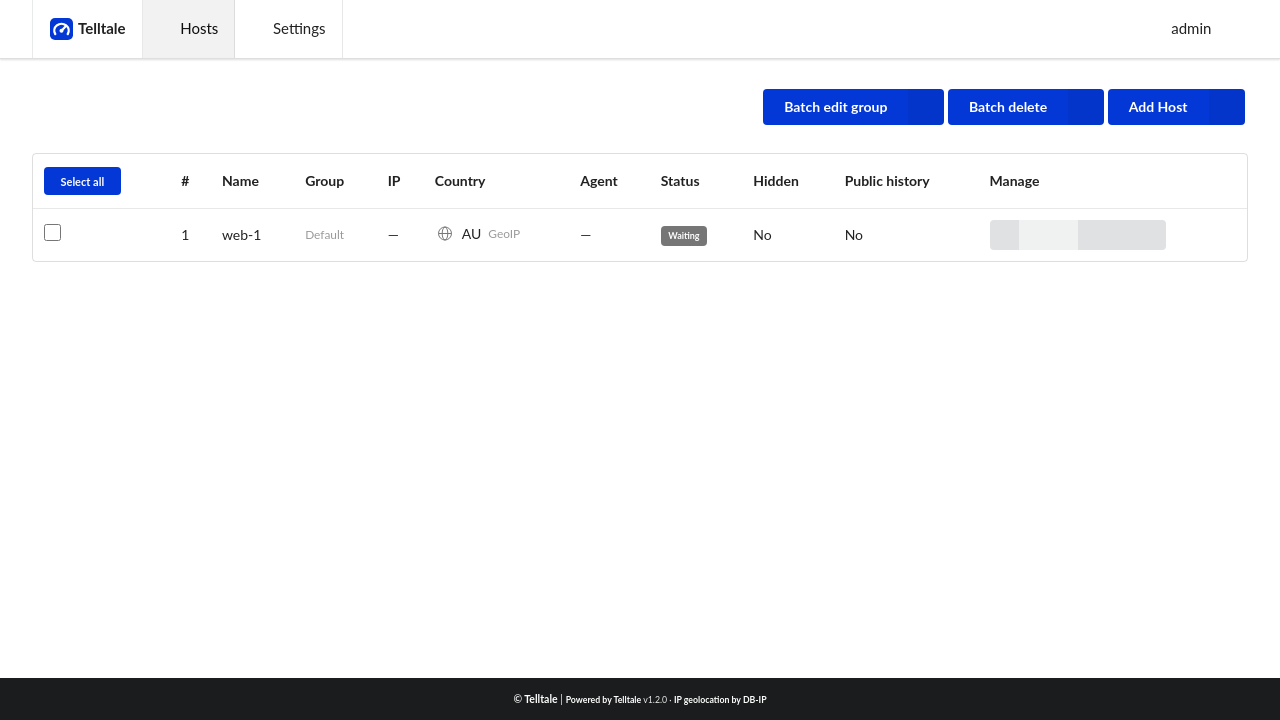
admin panel › edits a Host’s name, group, country override and visibility
Click the button named "Edit web-1" at (1092, 235), box 1078,220 -> 1107,250
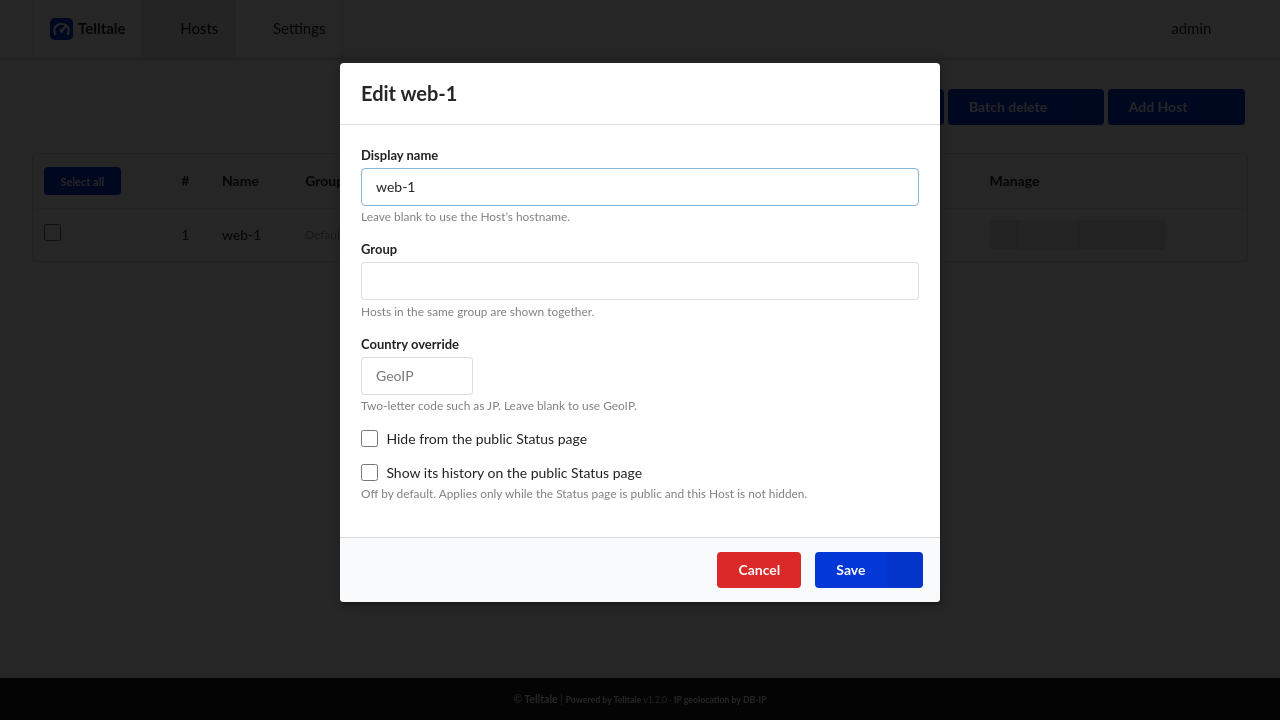
Replace the text in the field labelled "Display name" with "Tokyo" at (640, 187), box 361,168 -> 919,206
Type "Asia" into the field labelled "Group" at (640, 281), box 361,262 -> 919,300
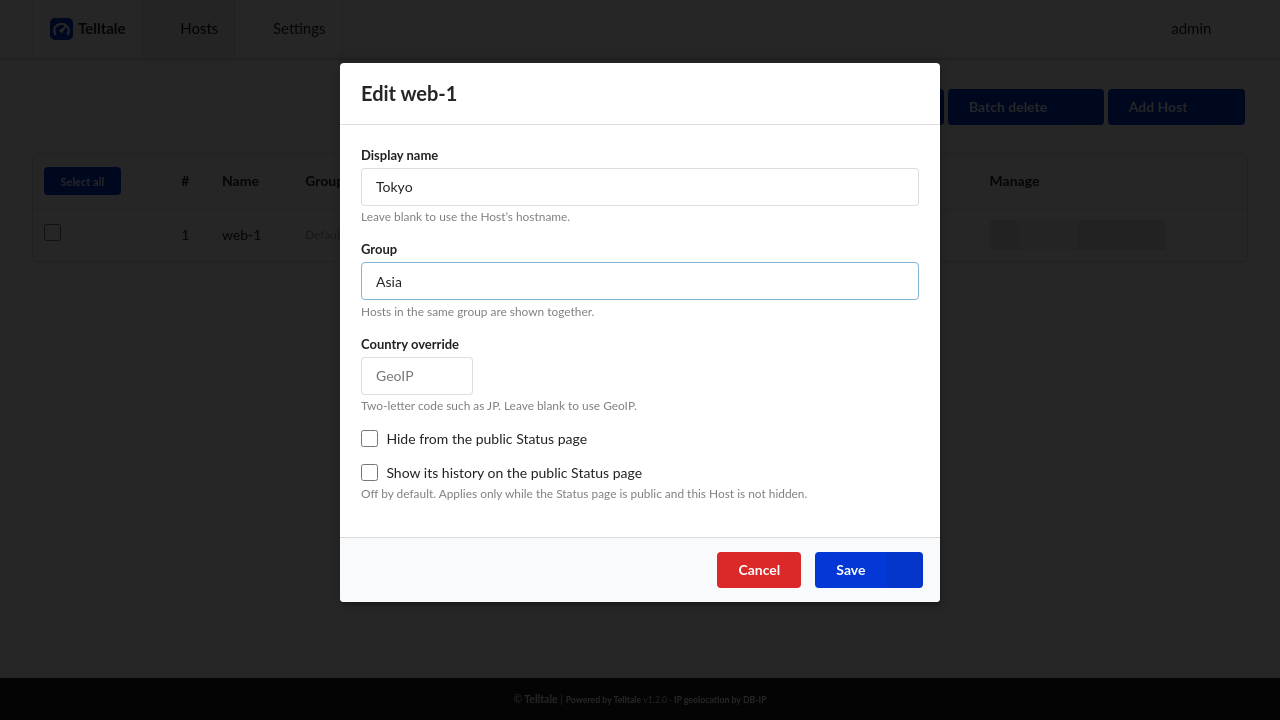
Type "jp" into the field labelled "Country override" at (417, 376), box 361,357 -> 473,395
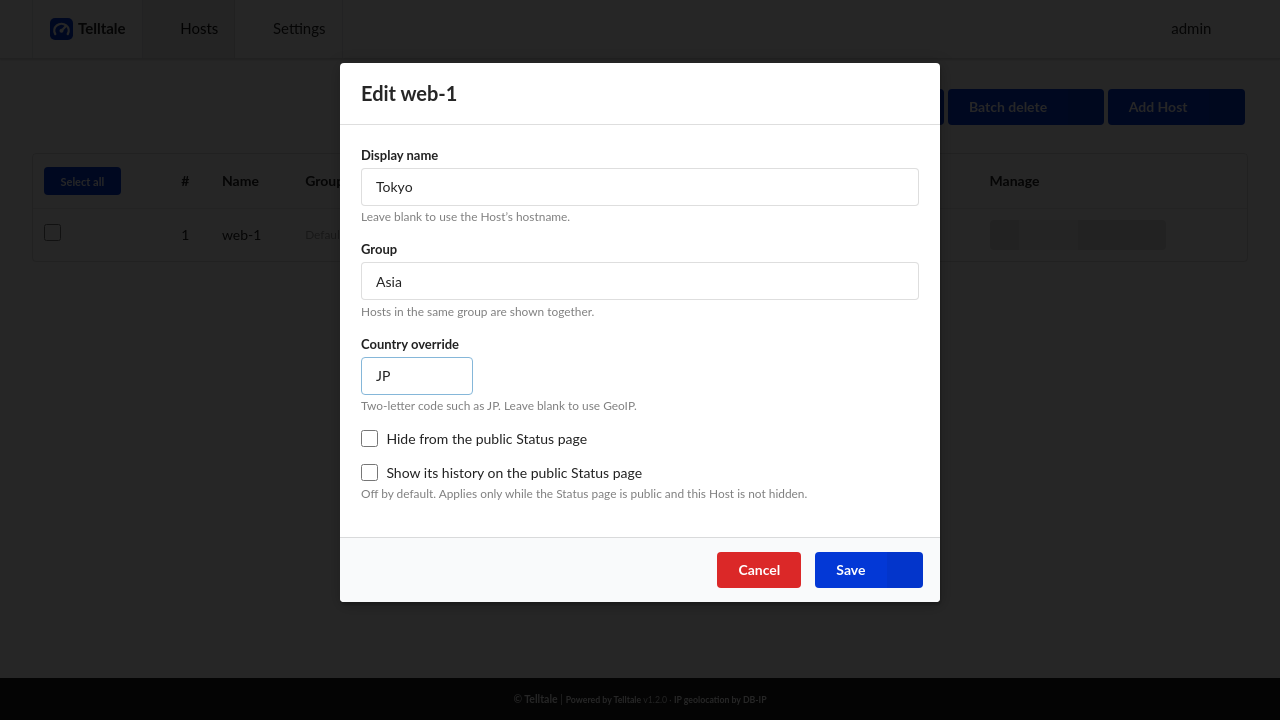
Click the checkbox labelled "Hide from the public Status page" at (370, 439), box 361,430 -> 378,447
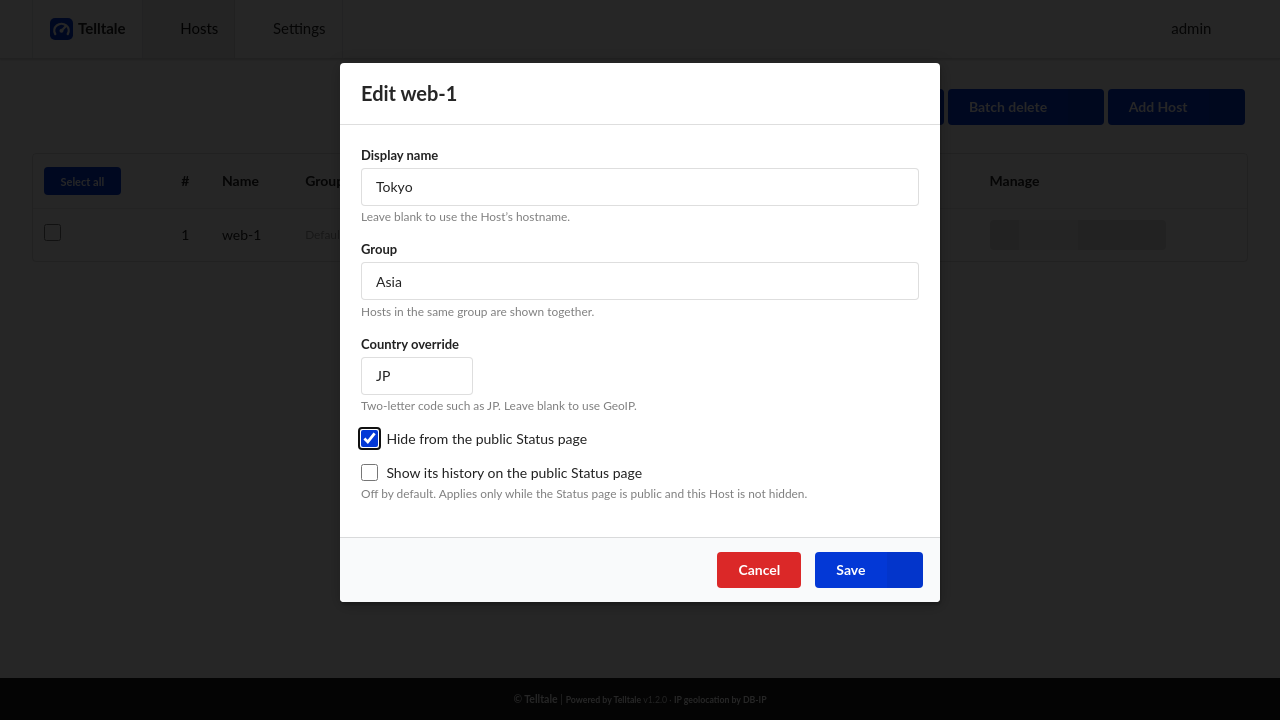
expect the checkbox labelled "Show its history on the public Status page" is not checked: met
Click the checkbox labelled "Show its history on the public Status page" at (370, 472), box 361,464 -> 378,481
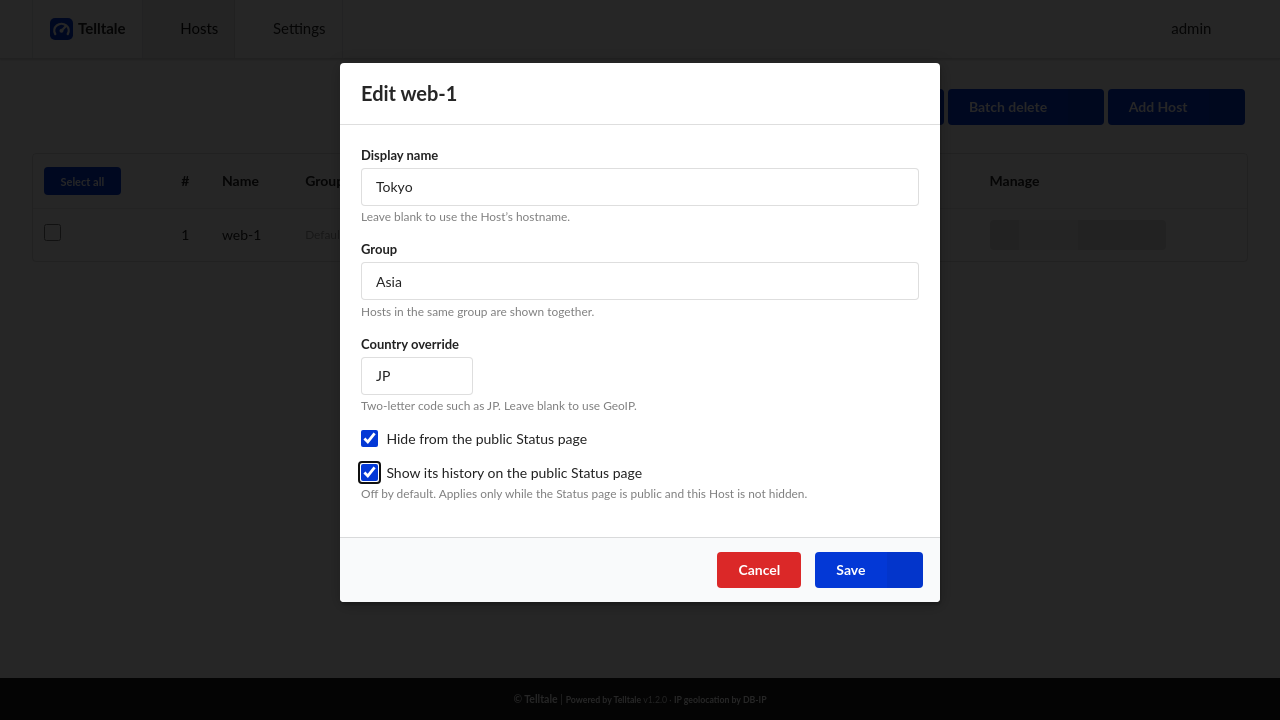
Click the button "Save" at (869, 570), box 815,552 -> 922,588
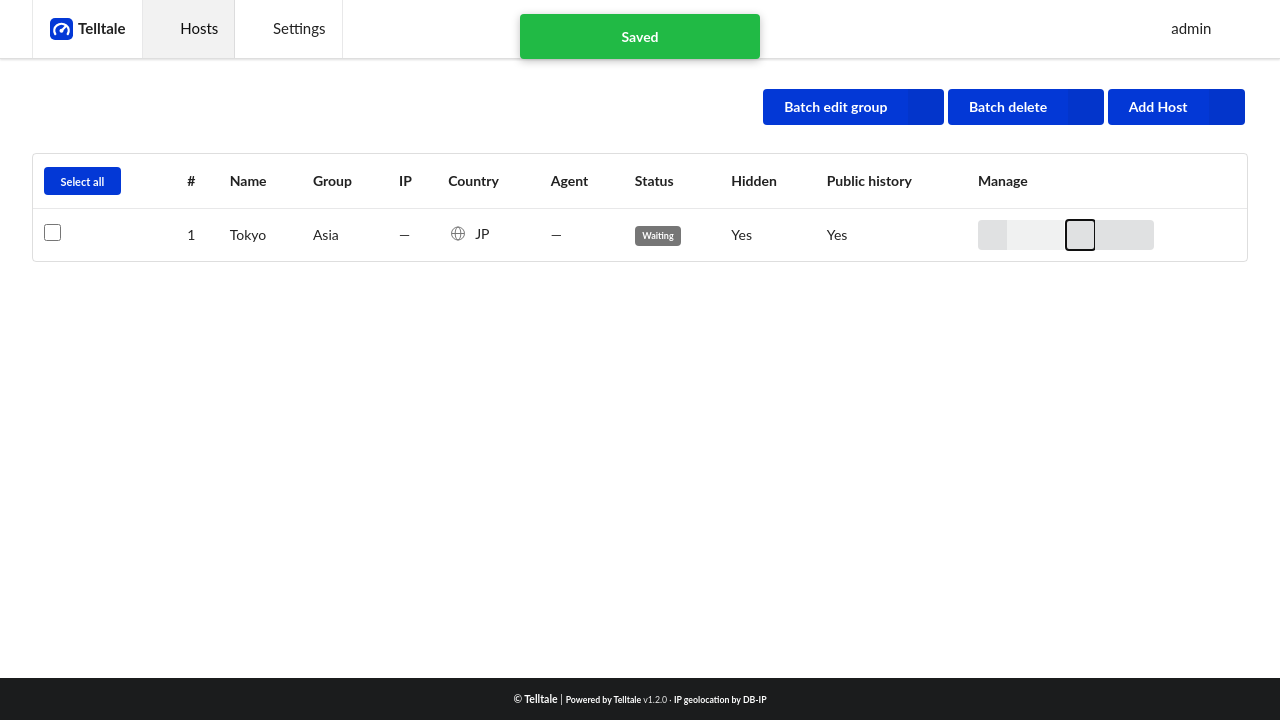
expect the message reads "Saved": met, box 621,28 -> 658,45
expect the dialog is gone: met
